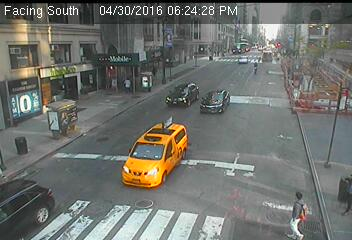neg: (248, 58, 262, 78), (303, 74, 317, 93)
pos: (279, 188, 316, 238), (333, 175, 351, 220), (119, 76, 134, 95), (150, 64, 160, 78)
